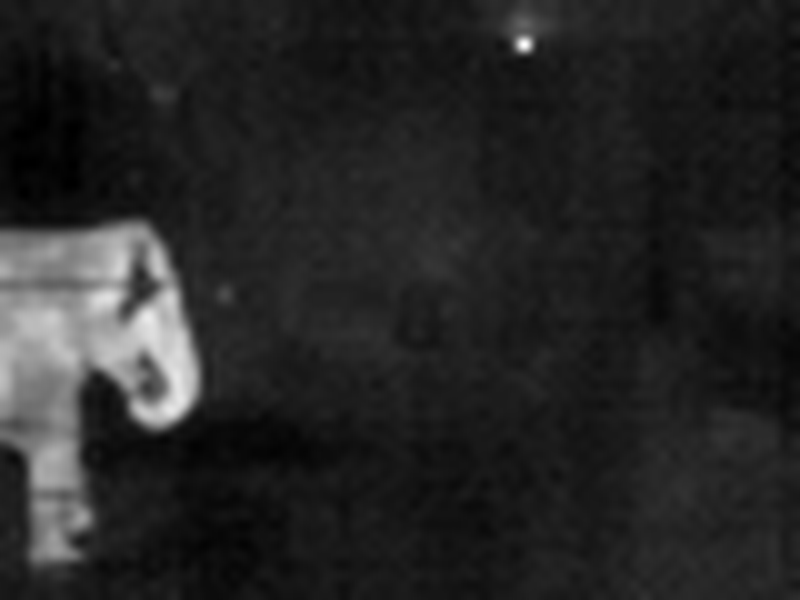elephant: (3, 220, 204, 564)
